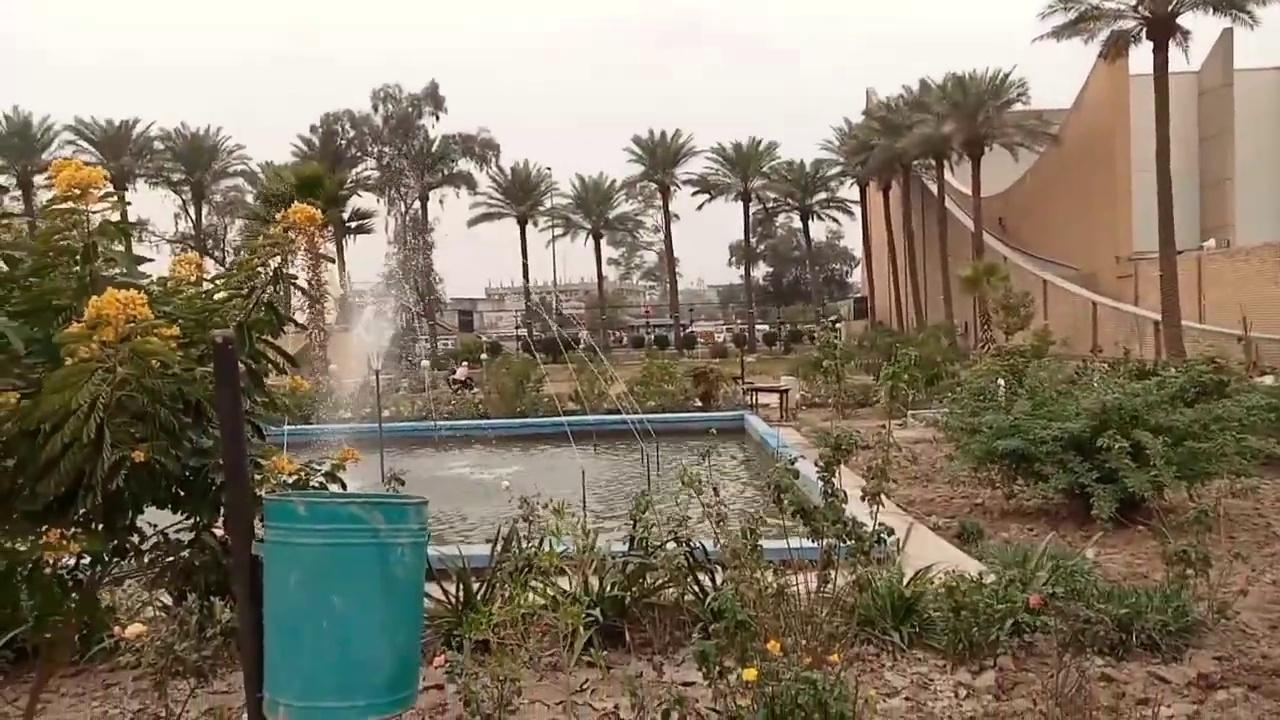fountain: (253, 279, 884, 588)
person: (449, 359, 473, 393)
tree: (0, 108, 338, 717), (341, 77, 498, 366), (918, 64, 1057, 355), (254, 118, 376, 387), (843, 87, 932, 335), (689, 134, 782, 354), (816, 115, 903, 334), (145, 120, 256, 286), (465, 157, 559, 353), (546, 170, 647, 351), (621, 126, 701, 349), (896, 83, 963, 345), (755, 157, 856, 328), (61, 113, 161, 280), (286, 119, 376, 299), (272, 199, 337, 389), (0, 103, 60, 221)
